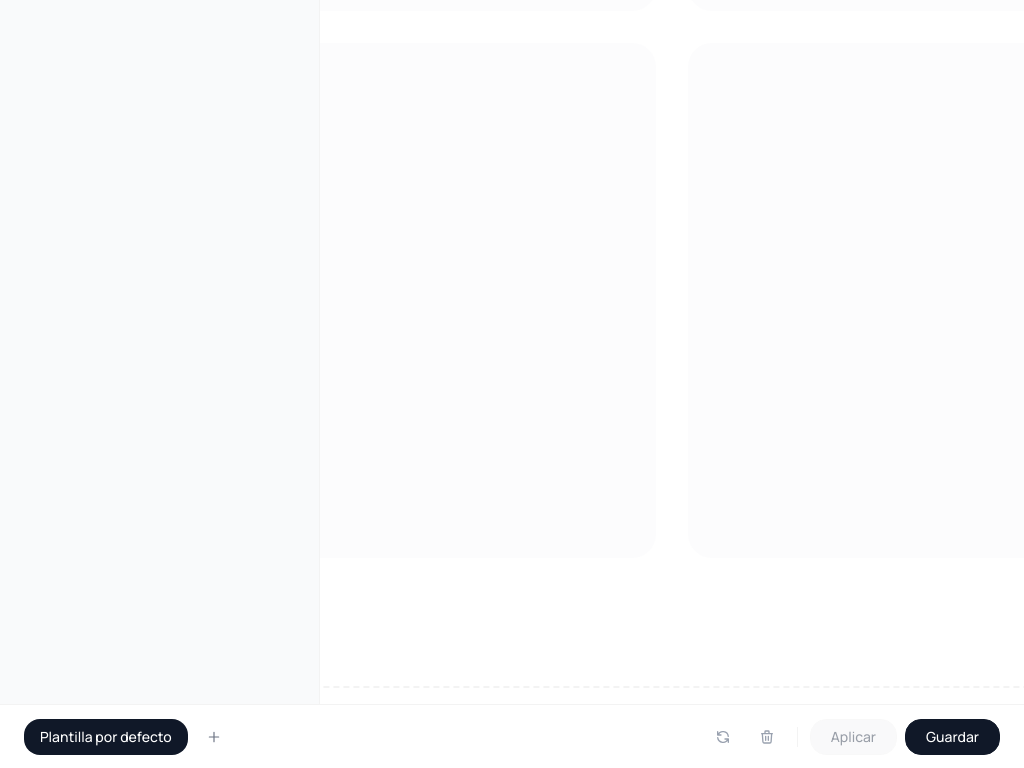
it: PlantillasPage › al crear una plantilla con el botón (+), activa el modo edición con el nombre seleccionado
(page scrolled)
expect the text "Plantilla por defecto" is shown: met, box top-left (40, 726), bottom-right (172, 746)
Click the button named "Nueva plantilla" at (214, 736), box top-left (196, 718), bottom-right (232, 754)
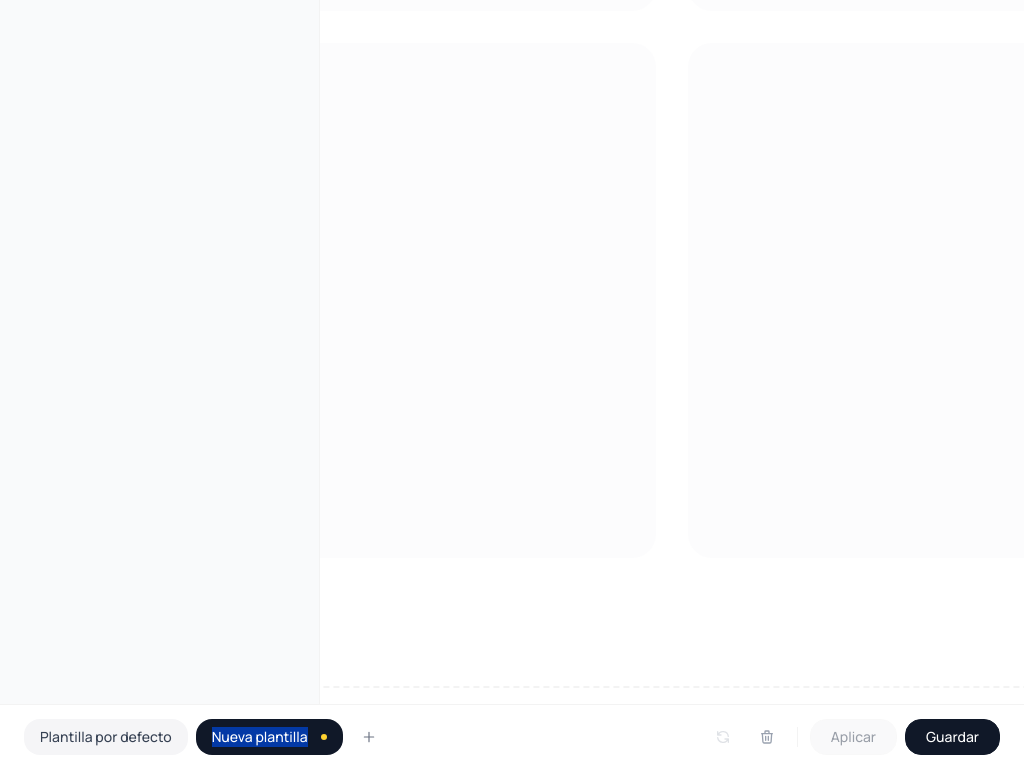
expect the field named "Editar nombre de plantilla" holds "Nueva plantilla": met, box top-left (212, 726), bottom-right (313, 746)
